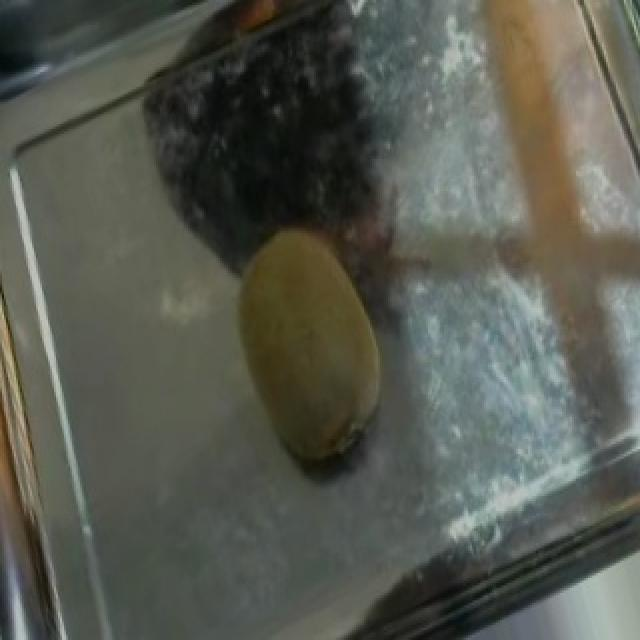Fruit: (198, 206, 412, 496), (448, 0, 640, 295)
